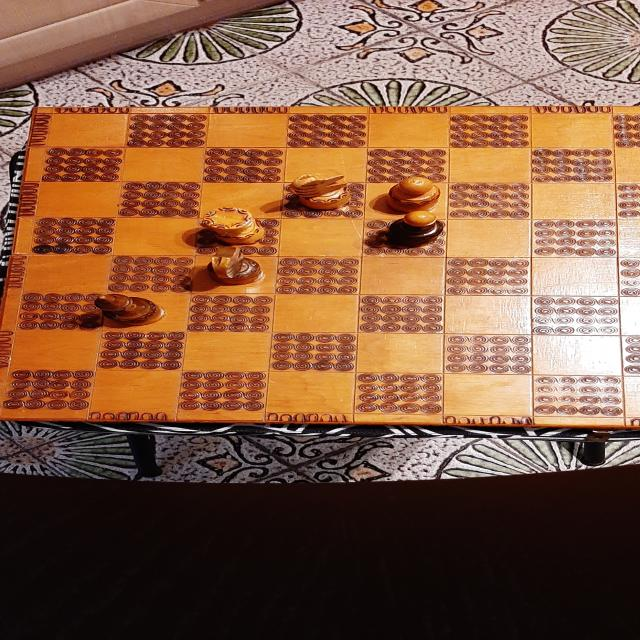black-bishop: (386, 211, 443, 247)
black-knight: (207, 247, 264, 285)
black-queen: (94, 294, 166, 326)
white-knight: (290, 170, 351, 211)
white-pawn: (386, 177, 441, 213)
white-rook: (203, 207, 266, 245)
